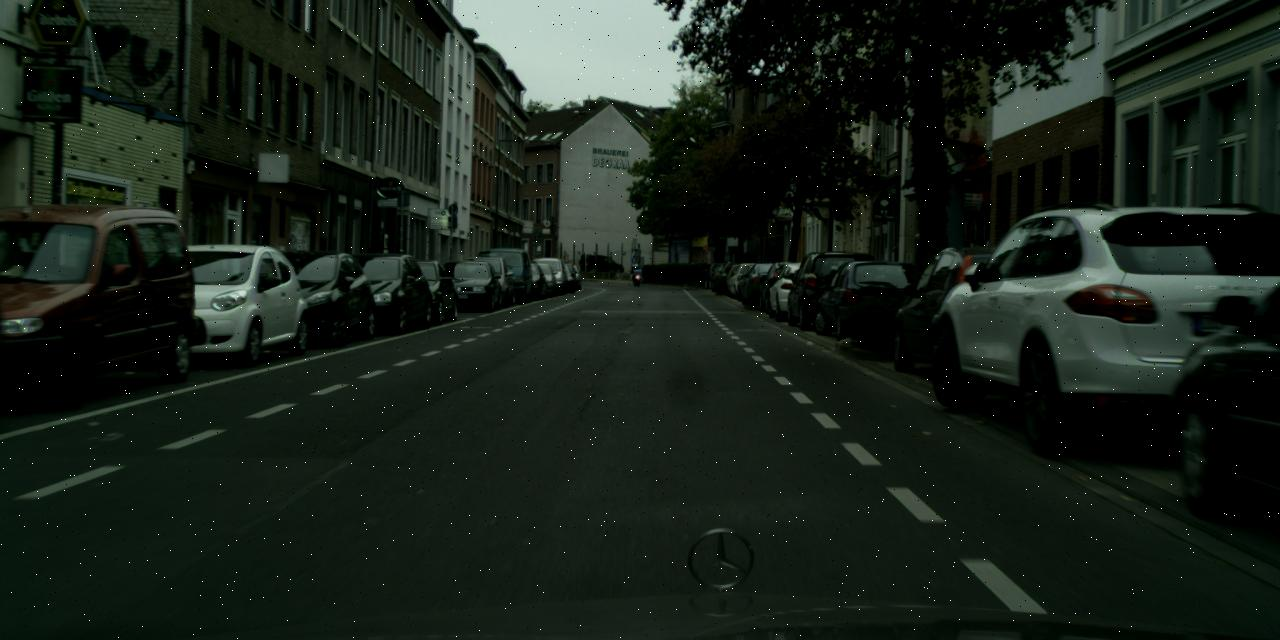ped: (632, 263, 640, 281)
